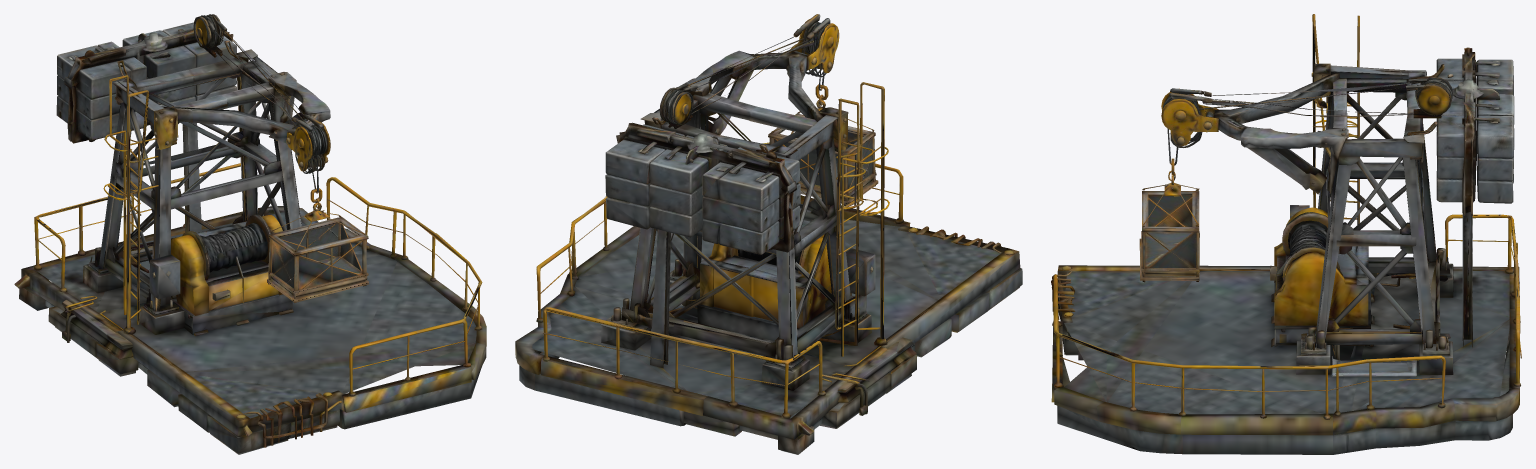
Rendered from crane.glb.
3 views of the same model, side by side, from view 1: azimuth 30°, elevation 25°; view 2: azimuth 150°, elevation 25°; view 3: azimuth 270°, elevation 25° (orthographic). The views are drawn at different scales.
Parts seen in each view (by area): view 1: crane; view 2: crane; view 3: crane.
Part boxes in pixels (<box>): crane: <box>14,14,486,454</box>; crane: <box>515,14,1022,454</box>; crane: <box>1051,14,1521,454</box>.
Size of the model in its own units: 8.23 by 6.98 by 10.
1 material, 1 textured.
